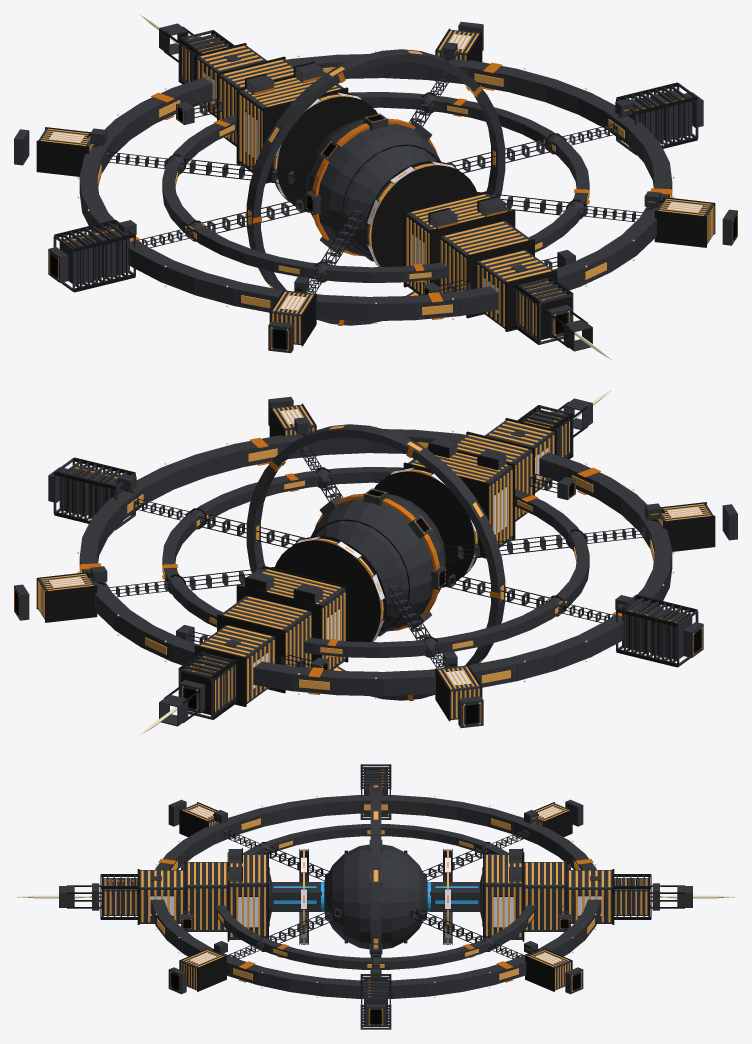
Rendered from station4_hub.obj.
The picture shows the model from 3 angles, top to bottom: view 1: azimuth 30°, elevation 25°; view 2: azimuth 150°, elevation 25°; view 3: azimuth 270°, elevation 25°; orthographic projection. The views are drawn at different scales.
Parts seen in each view (by area): view 1: hull, hull2, window, accent, ad, dark; view 2: hull, hull2, window, accent, ad, dark; view 3: hull, window, hull2, ad, accent, cyan, dark, light.
Part boxes in pixels (left/top/right/bottom): hull: left=14, top=21, right=737, bottom=353; hull2: left=36, top=27, right=715, bottom=347; window: left=41, top=30, right=714, bottom=343; accent: left=49, top=39, right=737, bottom=350; ad: left=49, top=34, right=702, bottom=313; dark: left=50, top=108, right=736, bottom=348; hull: left=14, top=396, right=737, bottom=728; hull2: left=36, top=402, right=715, bottom=722; window: left=37, top=405, right=710, bottom=718; accent: left=14, top=417, right=702, bottom=725; ad: left=49, top=409, right=702, bottom=688; dark: left=15, top=483, right=701, bottom=723; hull: left=59, top=764, right=692, bottom=1029; window: left=104, top=785, right=647, bottom=989; hull2: left=67, top=764, right=684, bottom=1029; ad: left=150, top=806, right=601, bottom=963; accent: left=105, top=769, right=593, bottom=1024; cyan: left=273, top=882, right=478, bottom=911; dark: left=171, top=920, right=580, bottom=1023; light: left=17, top=796, right=734, bottom=1025.
Bounding box in the file's own units: 316 × 124 × 403.
